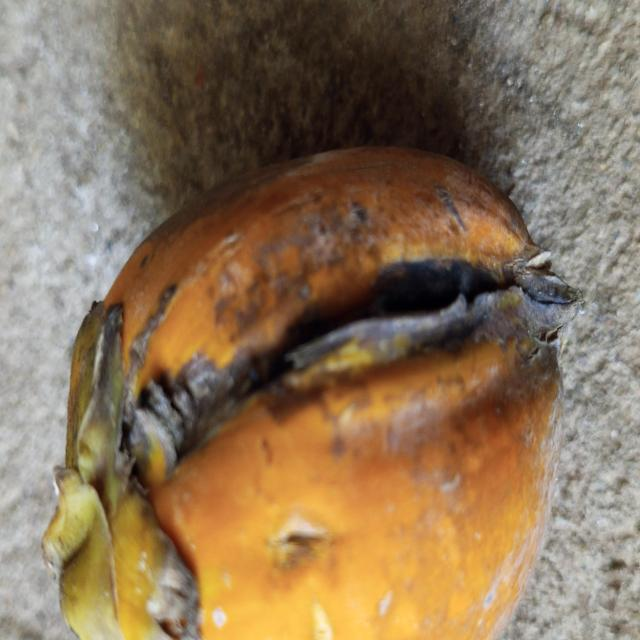damaged: (42, 147, 581, 640)
